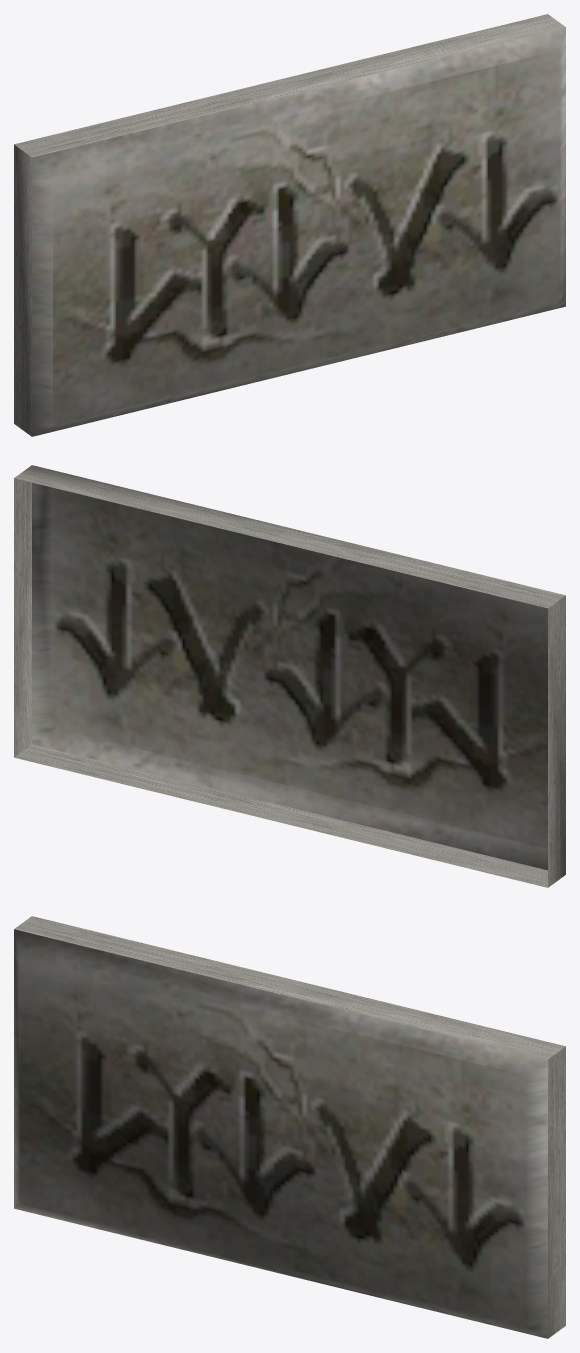
The model's file is DWARF_PALACE_MAINHALL_S_PLAQUE_THROR.obj.
The picture shows the model from 3 angles, top to bottom: view 1: azimuth 30°, elevation 25°; view 2: azimuth 150°, elevation 25°; view 3: azimuth 330°, elevation 25°; orthographic projection.
Visible parts, largest first — view 1: _s_plaque_thror; view 2: _s_plaque_thror; view 3: _s_plaque_thror.
Part boxes in pixels (x1,y1,x2,y2): _s_plaque_thror: (14,14,565,436); _s_plaque_thror: (14,465,565,887); _s_plaque_thror: (14,916,565,1338).
Bounding box in the file's own units: 120 × 60 × 10.
